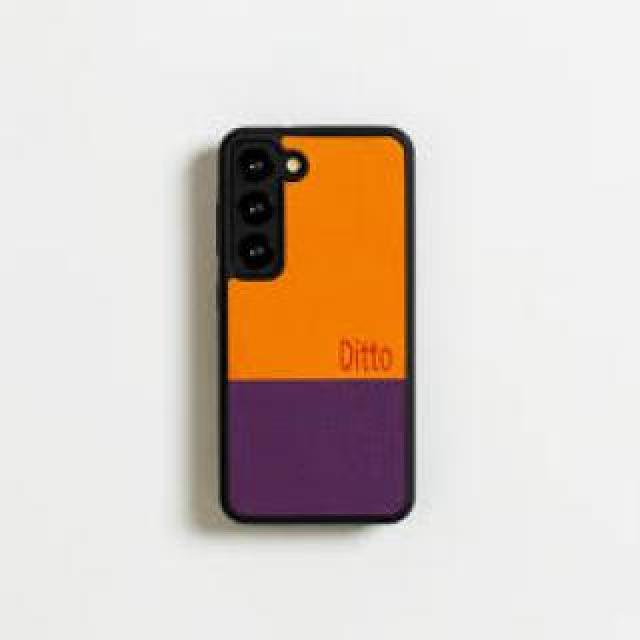smart phone: (216, 102, 452, 490)
